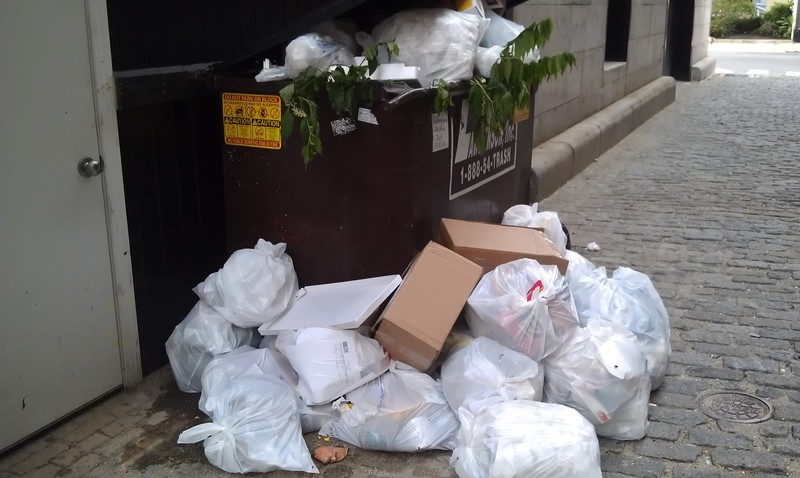Dumpster: (203, 18, 542, 283)
